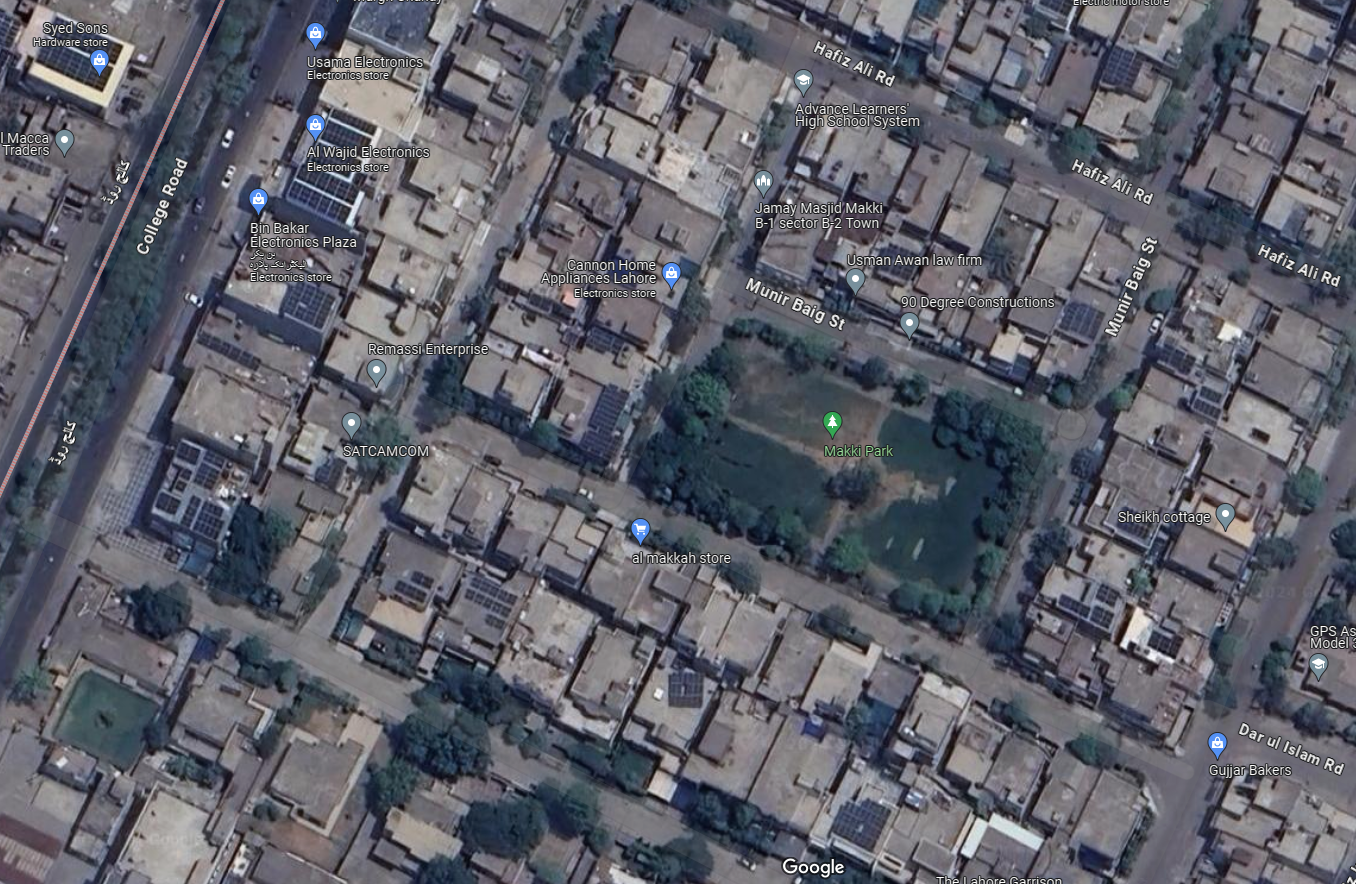solar-panel: (298, 109, 376, 220), (47, 20, 122, 85), (587, 379, 627, 462), (845, 789, 888, 850), (1112, 500, 1167, 547), (293, 277, 333, 334), (1063, 297, 1105, 346), (166, 450, 223, 486), (201, 335, 259, 367), (469, 577, 515, 614), (1148, 622, 1183, 662), (584, 317, 621, 354), (1071, 597, 1114, 626), (201, 501, 230, 543), (1111, 48, 1143, 85), (1166, 345, 1203, 376), (156, 493, 196, 521), (399, 572, 434, 604), (887, 240, 913, 280), (1093, 574, 1124, 606), (669, 674, 703, 703), (1, 11, 21, 48), (1202, 385, 1218, 418), (321, 463, 344, 483)
